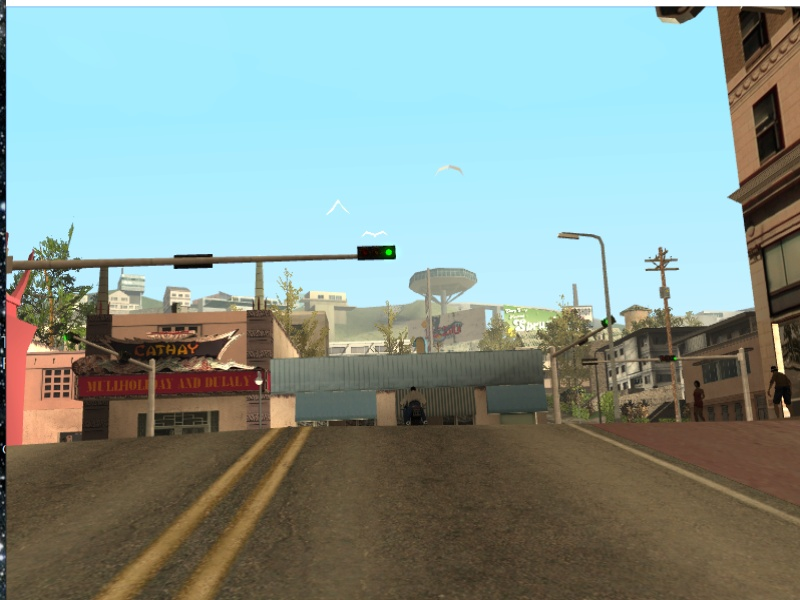person: (767, 366, 795, 422), (692, 380, 708, 420)
pole: (596, 237, 622, 422), (656, 267, 687, 422), (548, 348, 569, 422), (735, 350, 754, 423), (251, 378, 269, 427), (148, 361, 159, 438)
vehicle: (398, 386, 431, 426)
